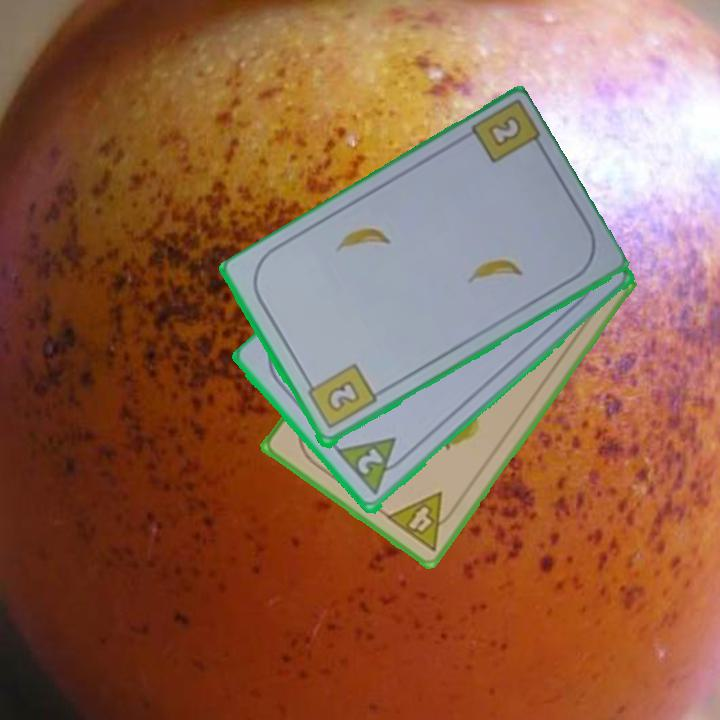2b: (301, 360, 379, 433), (484, 109, 525, 151)
2p: (333, 434, 413, 499)
4p: (382, 488, 462, 555)
